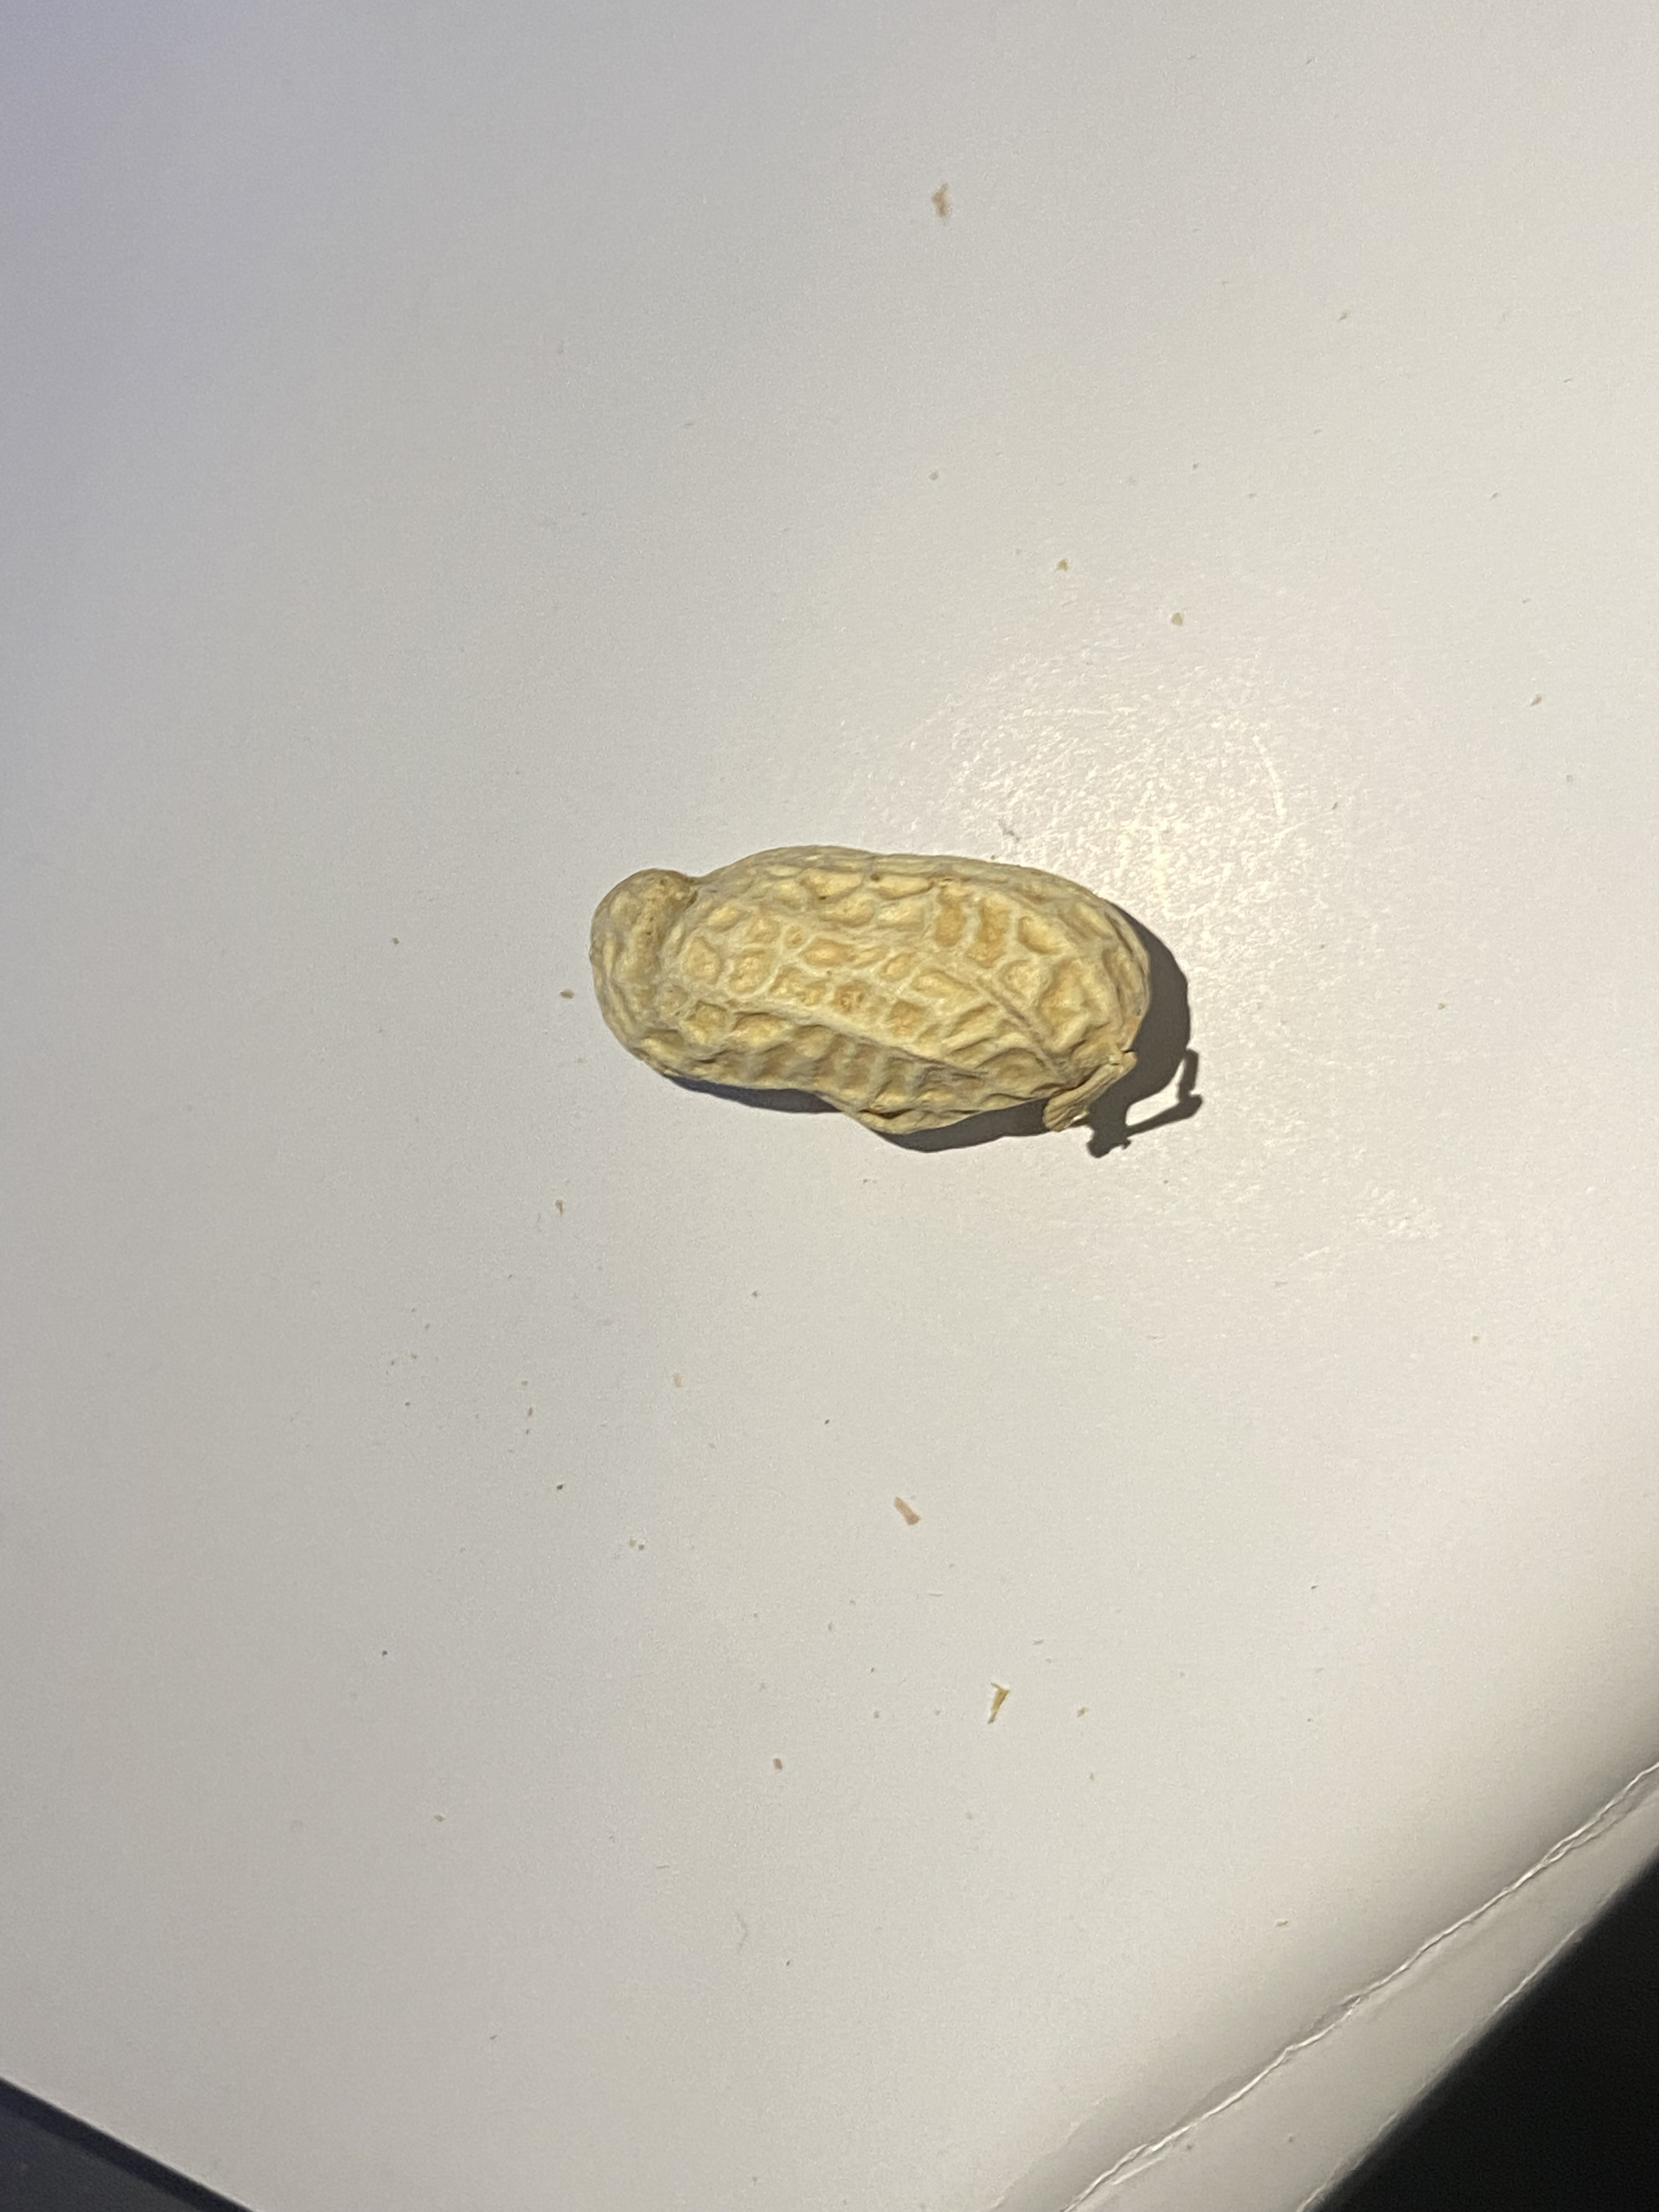kacang2: (558, 824, 1225, 1148)
